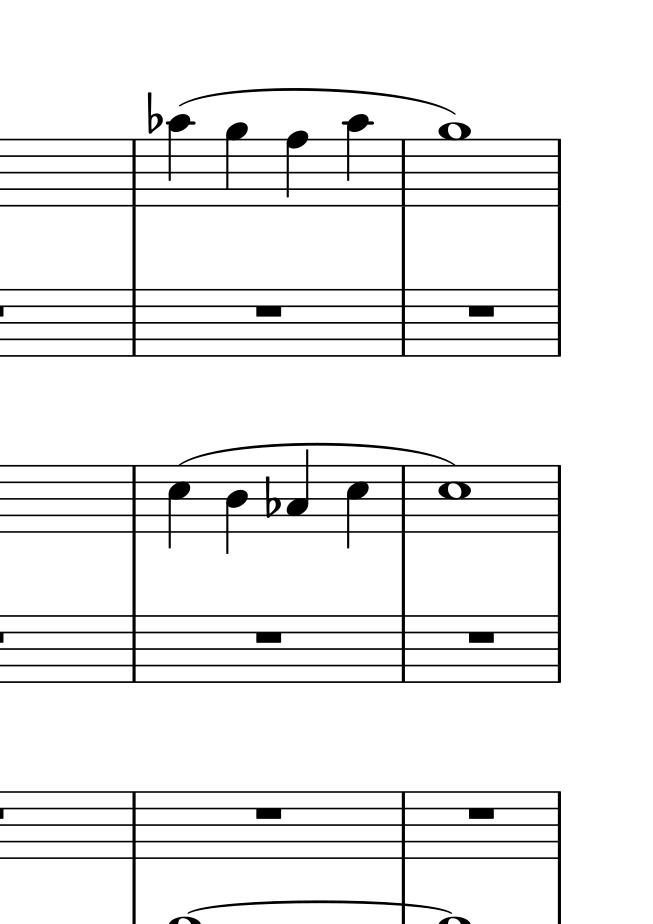1_5: (437, 463, 473, 533)
1_9: (436, 120, 473, 211)
4_10: (344, 113, 371, 208), (167, 113, 193, 209)
4_3: (284, 448, 311, 535)
4_4: (223, 462, 248, 559)
4_5: (342, 463, 369, 553), (166, 463, 193, 551)
4_8: (284, 130, 310, 209)
4_9: (224, 122, 250, 208)
Flat: (144, 92, 163, 133), (262, 476, 281, 517)
Rests1: (465, 623, 498, 648), (251, 801, 285, 825), (253, 624, 283, 645), (254, 300, 283, 319), (464, 304, 499, 319), (465, 804, 495, 821)
Single_barline: (394, 465, 413, 532), (394, 139, 412, 205), (125, 465, 142, 533), (550, 138, 567, 206), (550, 465, 567, 533), (125, 139, 142, 206), (394, 616, 411, 682), (549, 288, 565, 358), (549, 616, 566, 681), (550, 791, 566, 860), (395, 791, 411, 859), (395, 288, 411, 356), (125, 290, 141, 356), (126, 616, 142, 682), (126, 791, 141, 860)
Slur: (174, 87, 459, 114), (180, 442, 455, 468)
